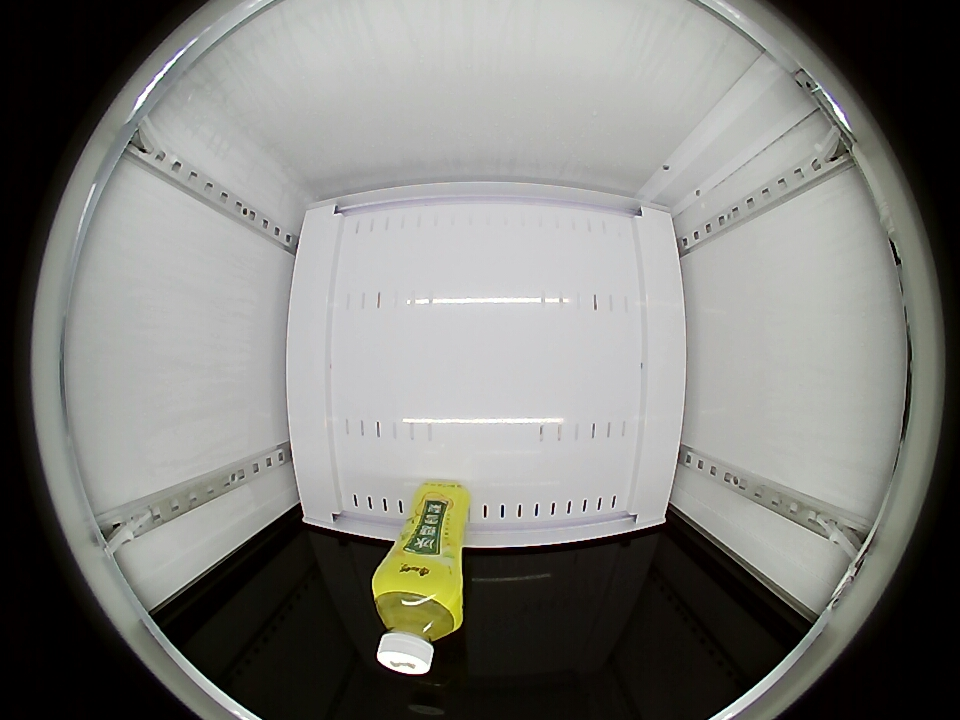bingtangxueli: (373, 564, 464, 677)
